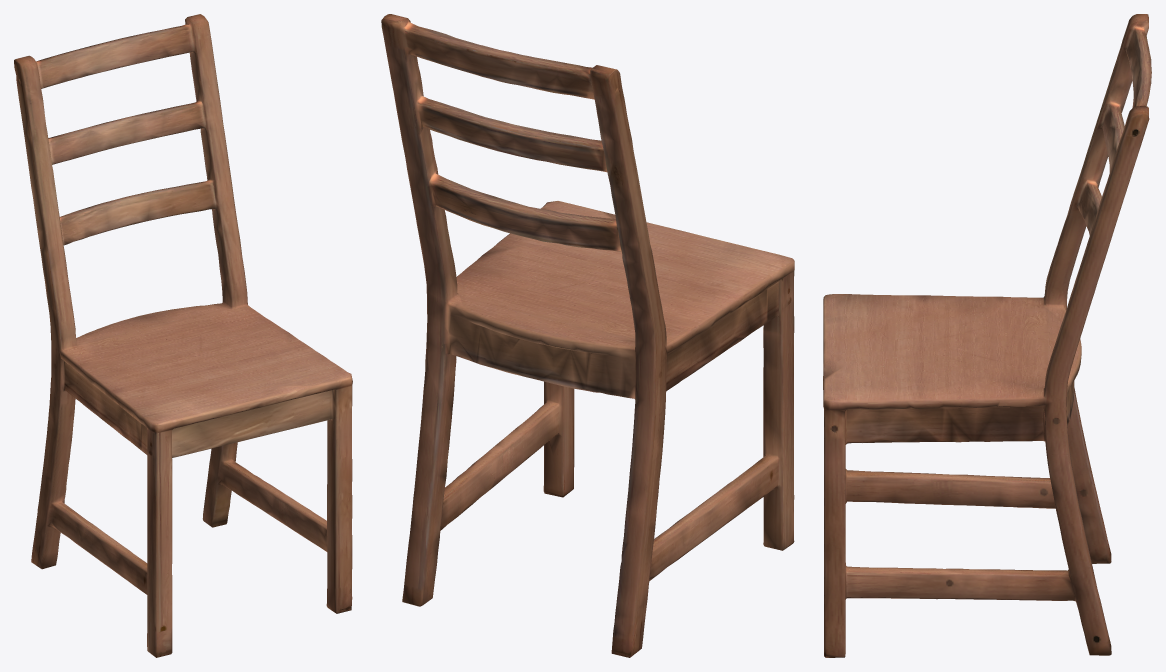
Rendered from 75329ef0-0f00-4919-bea5-62894c24659e.glb.
3 views of the same model, side by side, from view 1: azimuth 30°, elevation 25°; view 2: azimuth 150°, elevation 25°; view 3: azimuth 270°, elevation 25° (orthographic). The views are drawn at different scales.
Visible parts, largest first — view 1: Mesh_0; view 2: Mesh_0; view 3: Mesh_0.
Part boxes in pixels (<box>): Mesh_0: <box>14,14,352,657</box>; Mesh_0: <box>381,14,794,657</box>; Mesh_0: <box>823,14,1151,657</box>.
Bounding box in the file's own units: 0.822 × 1.91 × 1.05.
Materials: 1 (1 with a texture image).
